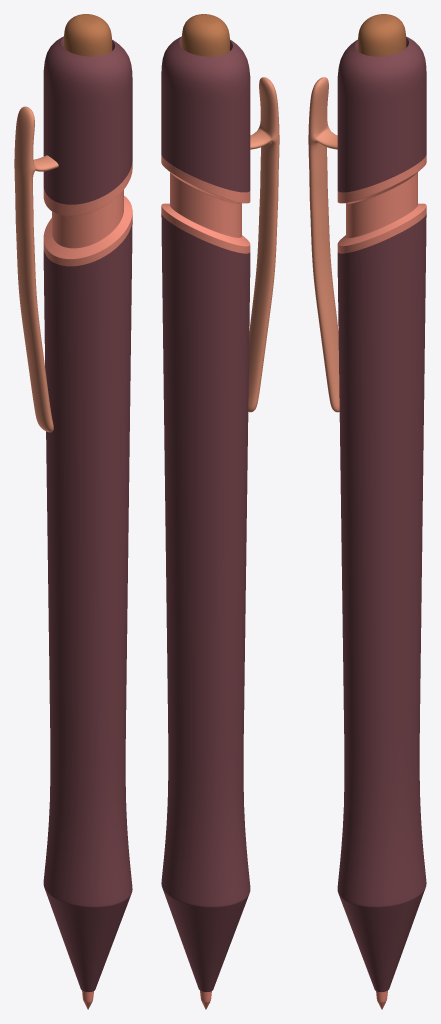
File: rosegoldpen.obj
3 views of the same model, side by side, from view 1: azimuth 30°, elevation 25°; view 2: azimuth 210°, elevation 25°; view 3: azimuth 330°, elevation 25° (orthographic).
Visible parts, largest first — view 1: pen; view 2: pen; view 3: pen.
Part boxes in pixels (<box>): pen: <box>14,14,132,1009</box>; pen: <box>161,14,279,1009</box>; pen: <box>308,14,426,1009</box>.
Bounding box in the file's own units: 0.1141 × 1.02 × 0.0931.
